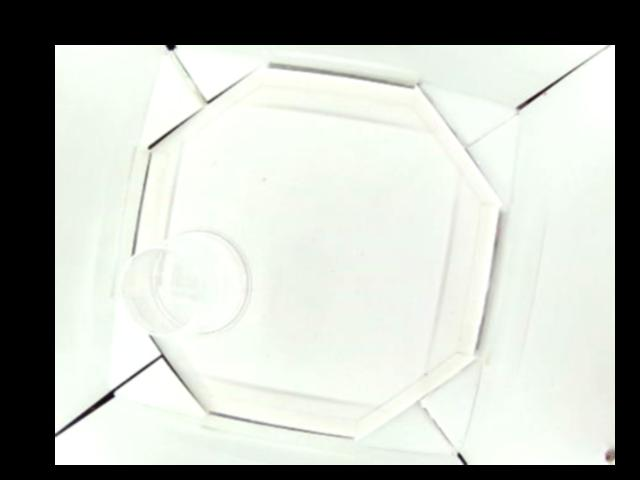Cup: (125, 229, 252, 336)
